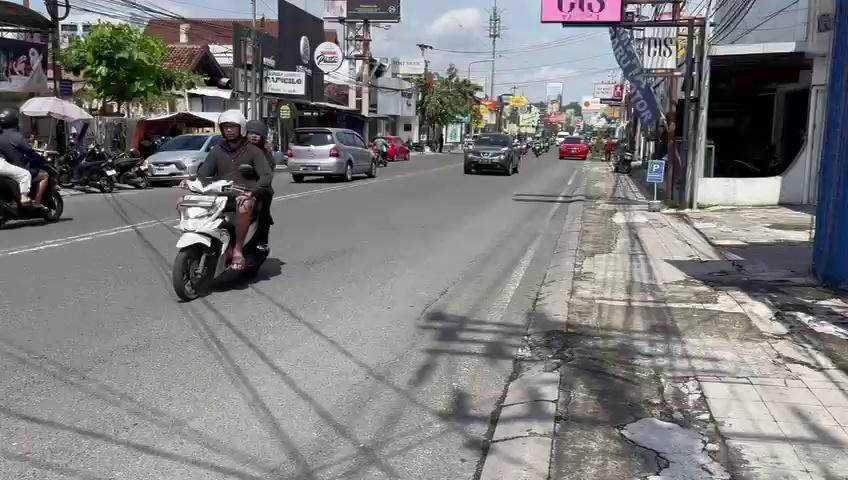helm: (217, 109, 248, 142), (245, 119, 270, 146)
riding: (171, 109, 277, 302)
